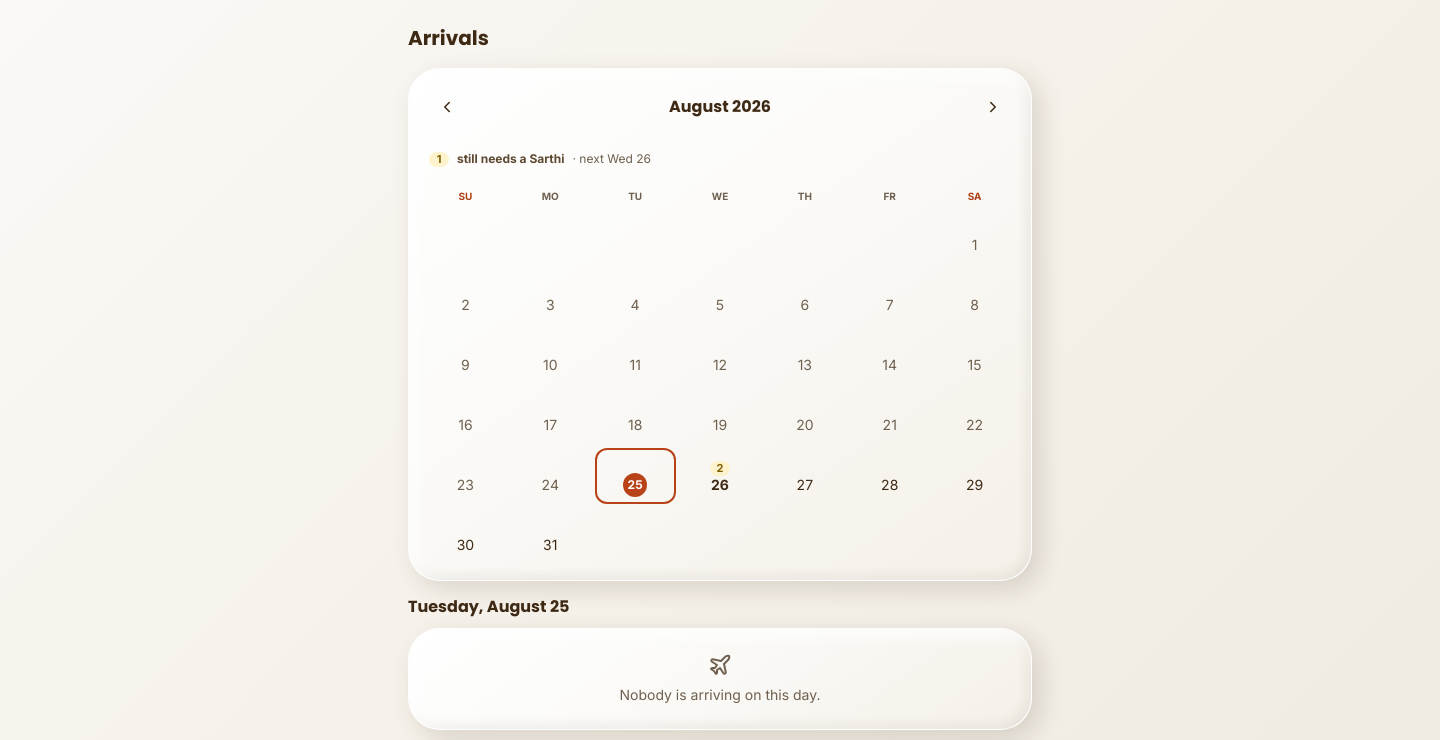
Test case: the day list below the grid › lists the selected day and puts what needs somebody first
Click the button "2 26".
click(720, 476)  # box [680,448,760,504]
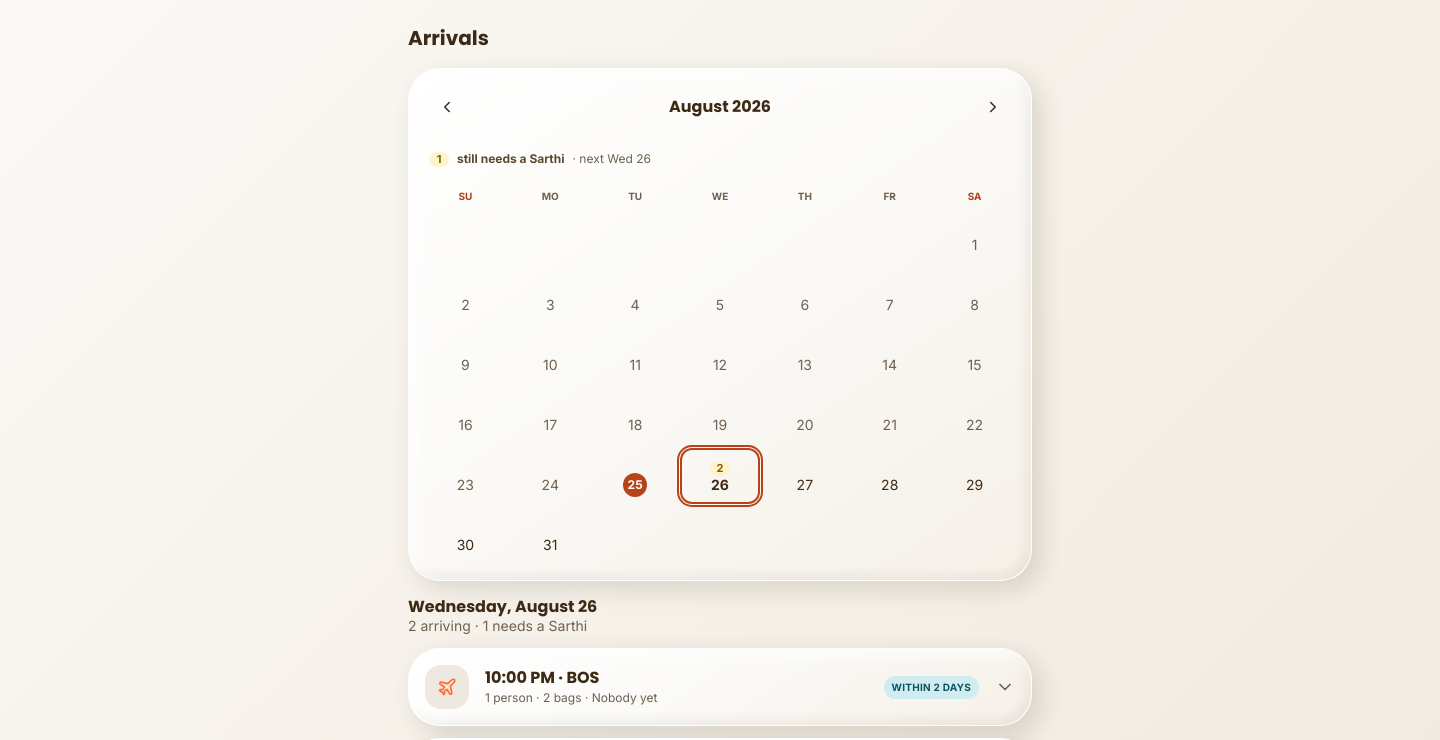
Expected: the heading "10:00 PM · BOS" is shown, [485,666,600,689]
